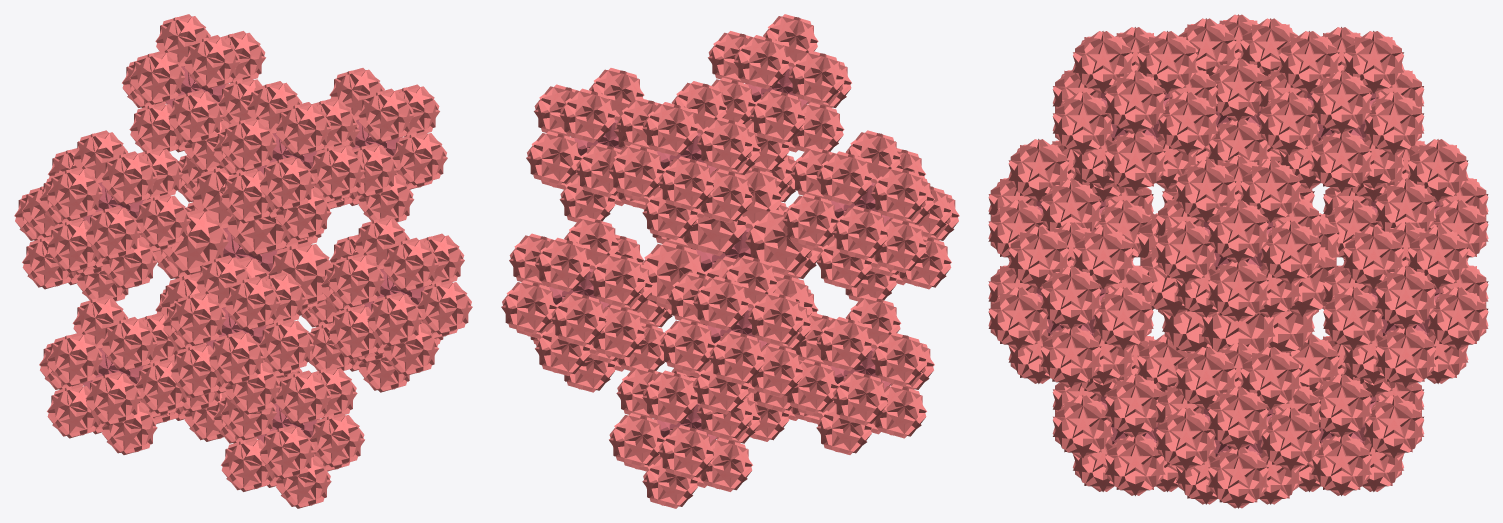
Rendered from fractaltruncatedgreaticosahedron2.glb.
3 views of the same model, side by side, from view 1: azimuth 30°, elevation 25°; view 2: azimuth 150°, elevation 25°; view 3: azimuth 270°, elevation 25° (orthographic). The views are drawn at different scales.
Bounding box in the file's own units: 8.99 × 8.99 × 8.99.
